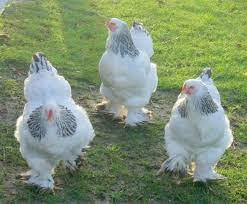Gà/Chicken: (7, 49, 98, 198), (160, 64, 242, 192), (84, 9, 164, 132)
